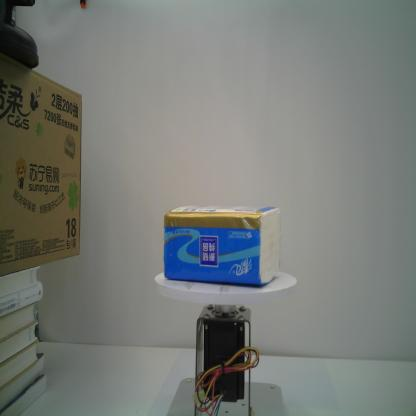Tissue: (162, 201, 280, 287)
